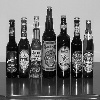beer: (43, 4, 56, 80)
